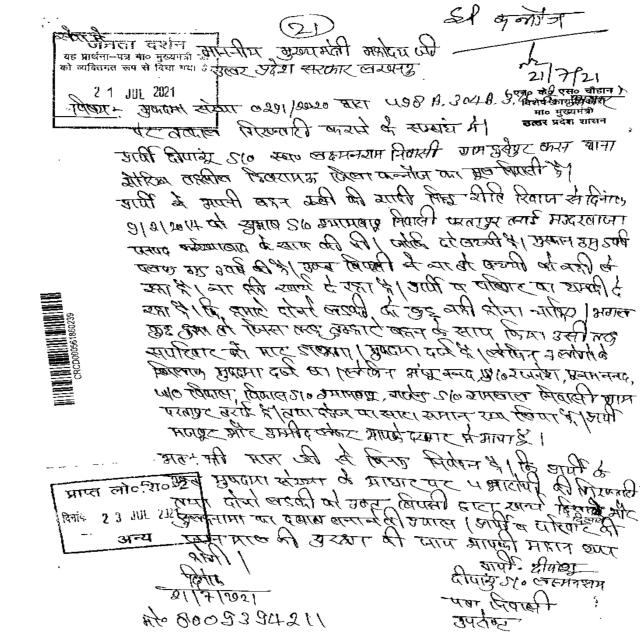antritgovtstamp: (44, 472, 213, 553)
barcode: (34, 291, 87, 407)
jantadarsan: (53, 31, 221, 134)
signnamestamp: (506, 40, 623, 128)
